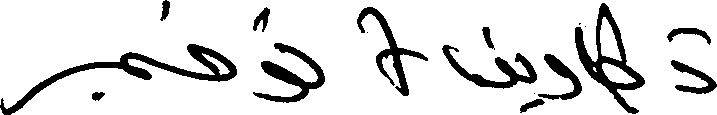7: (356, 4, 425, 96)
ا: (580, 6, 598, 93)
ب: (86, 57, 107, 103)
ت: (669, 26, 714, 95)
ر: (0, 60, 86, 113)
ظ: (597, 0, 645, 113)
ف: (153, 0, 236, 82)
م: (118, 49, 149, 79)
ن: (439, 25, 517, 89), (304, 52, 325, 98)
و: (543, 20, 581, 104), (259, 57, 301, 103)
ي: (516, 50, 537, 112)
